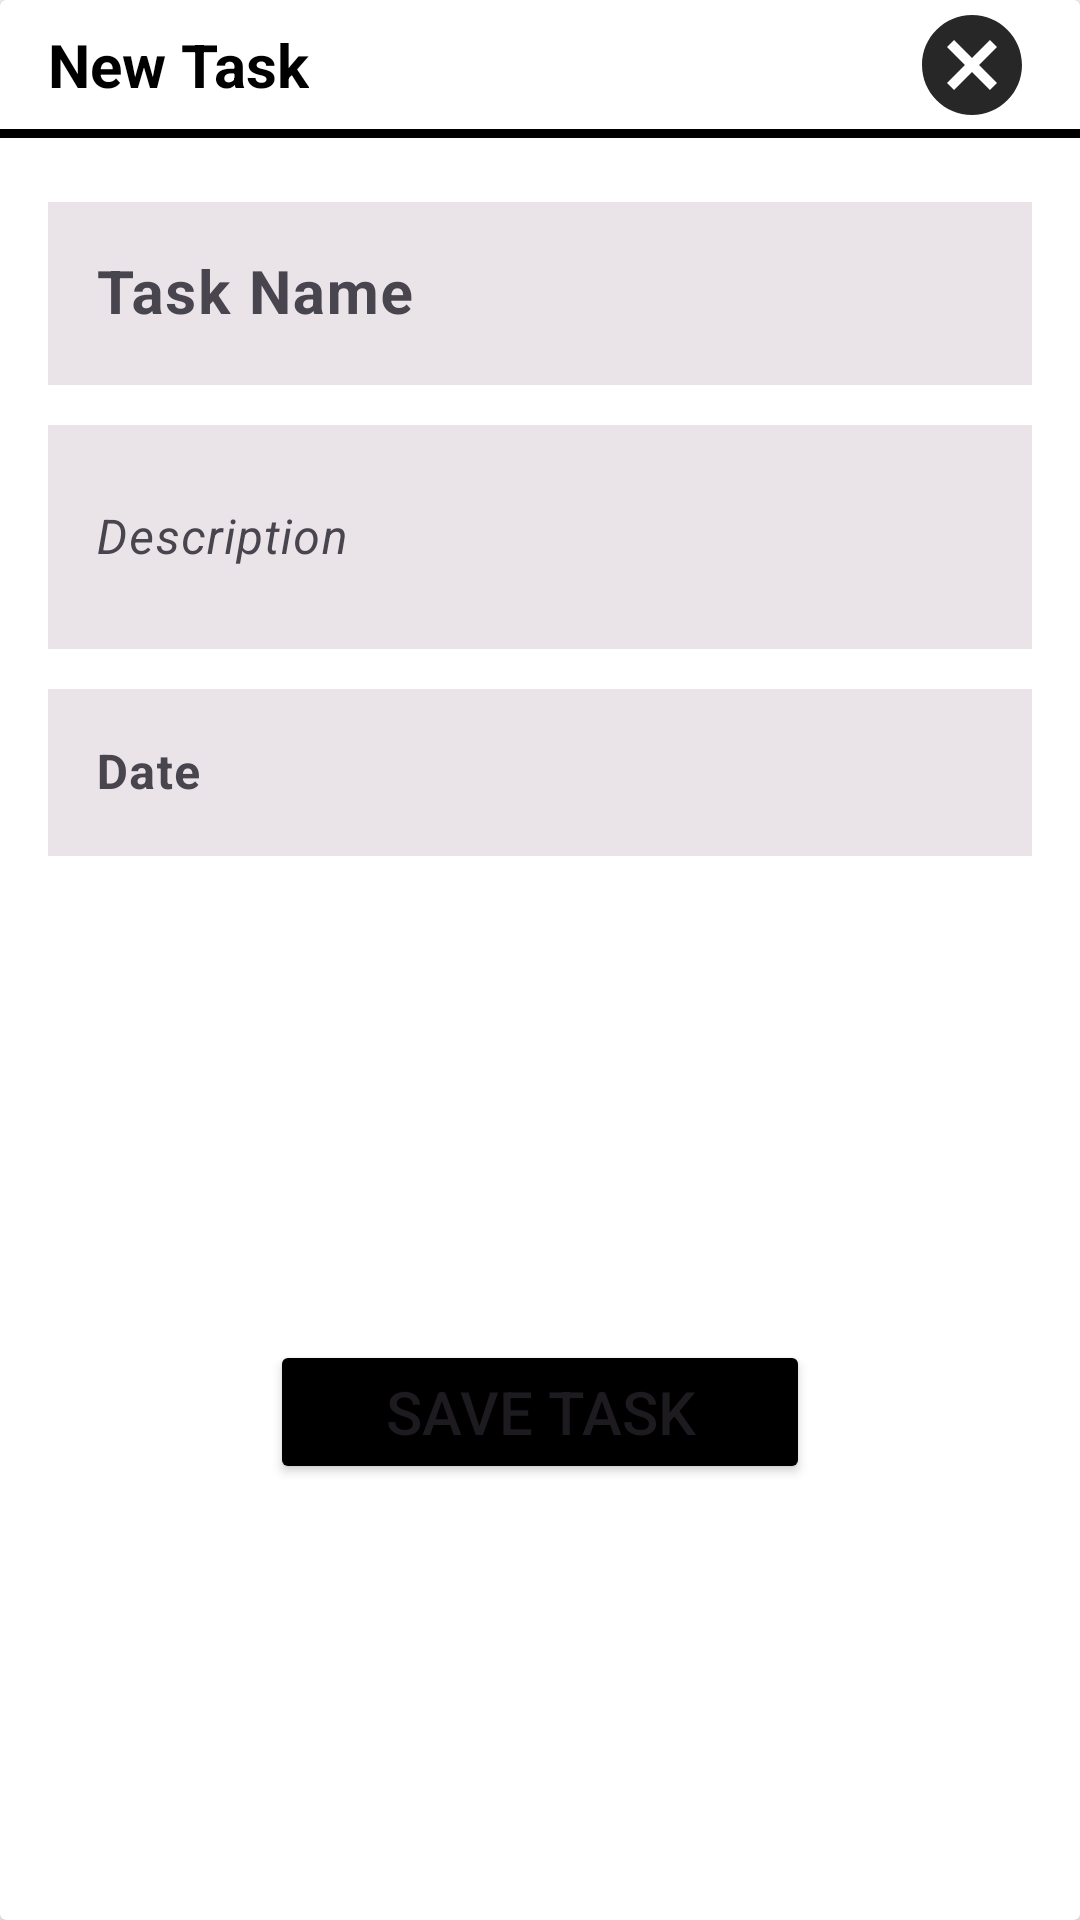

Icon click points for this 1080px x 1920px phone screenshot, format (x,y):
cancel: (972,65)
